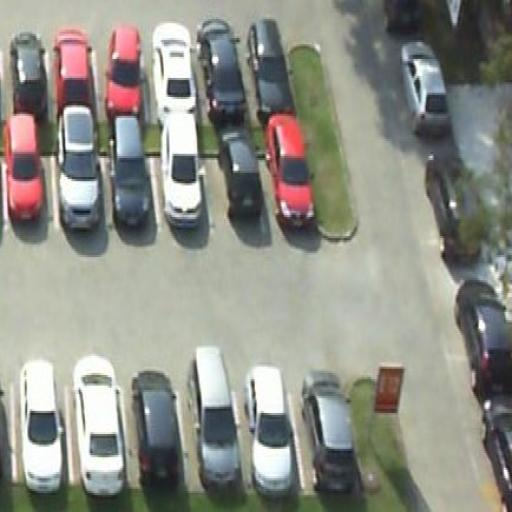car: (189, 343, 243, 491), (72, 354, 125, 499), (423, 150, 485, 272), (300, 369, 358, 499), (454, 278, 512, 403), (130, 367, 184, 499), (243, 365, 295, 497), (263, 112, 317, 236), (55, 105, 104, 238), (18, 358, 64, 497), (248, 16, 301, 130), (197, 19, 249, 133), (108, 114, 154, 236), (1, 112, 46, 232), (401, 40, 452, 143), (160, 112, 206, 226), (215, 124, 265, 228), (151, 21, 199, 129), (52, 23, 97, 131), (104, 21, 145, 129), (8, 28, 50, 128), (479, 398, 512, 512)
